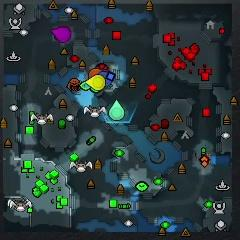p1: (101, 71, 113, 87)
p2: (109, 100, 124, 120)
p3: (50, 25, 72, 43)
p4: (85, 76, 105, 91)
p5: (90, 69, 102, 78)
